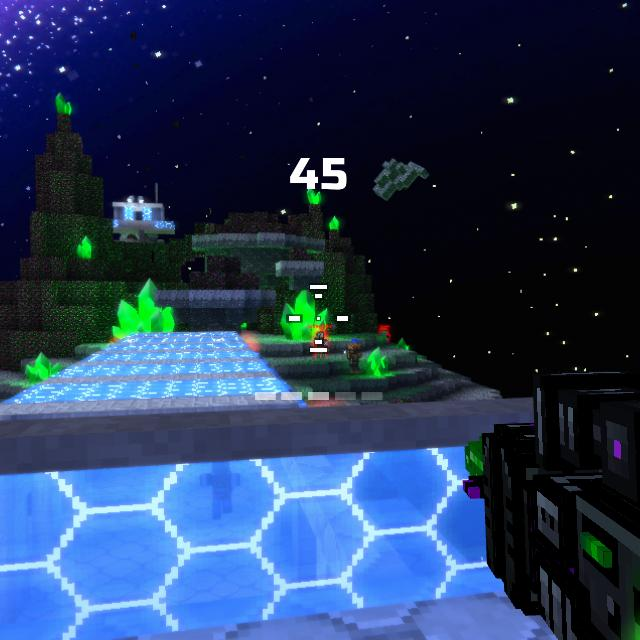Enemy: (313, 330, 328, 358), (380, 329, 390, 341)
